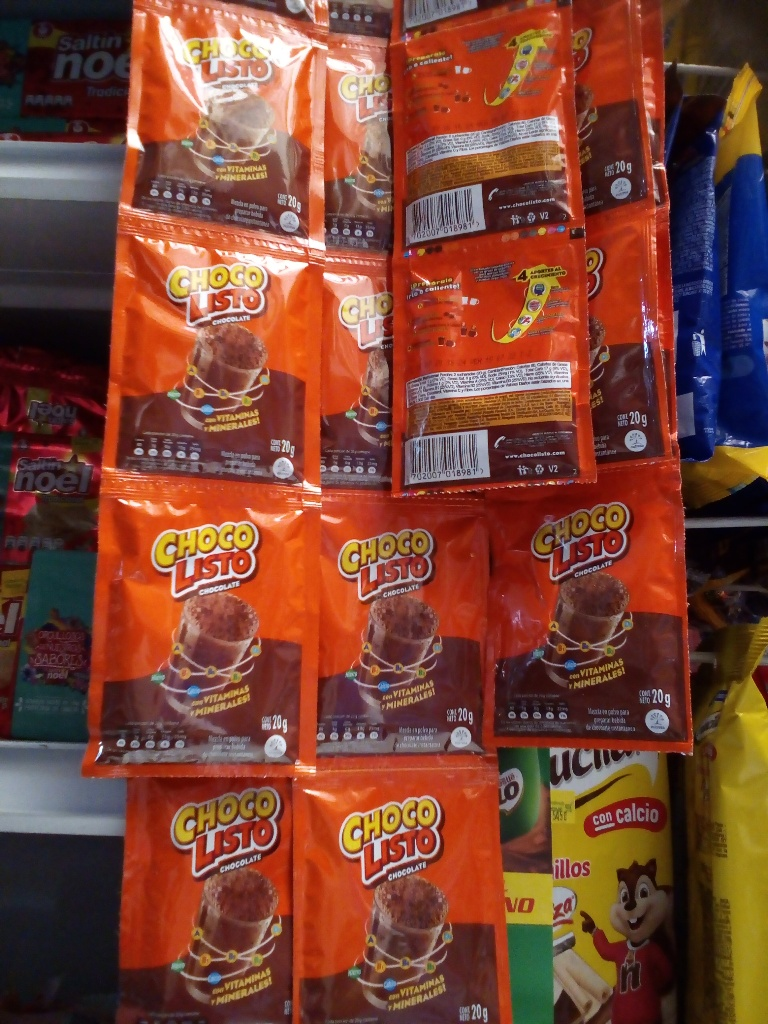COL0170103SOB02000: (127, 0, 330, 255)
